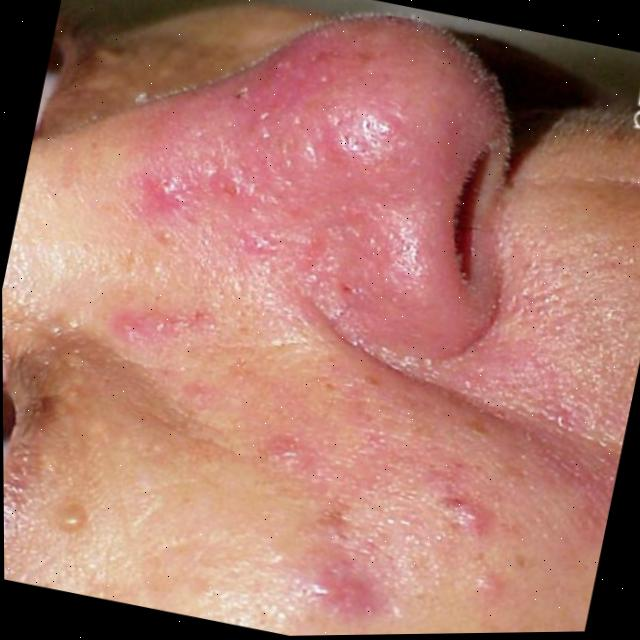Rosacea: (60, 289, 541, 639), (150, 54, 444, 284)
